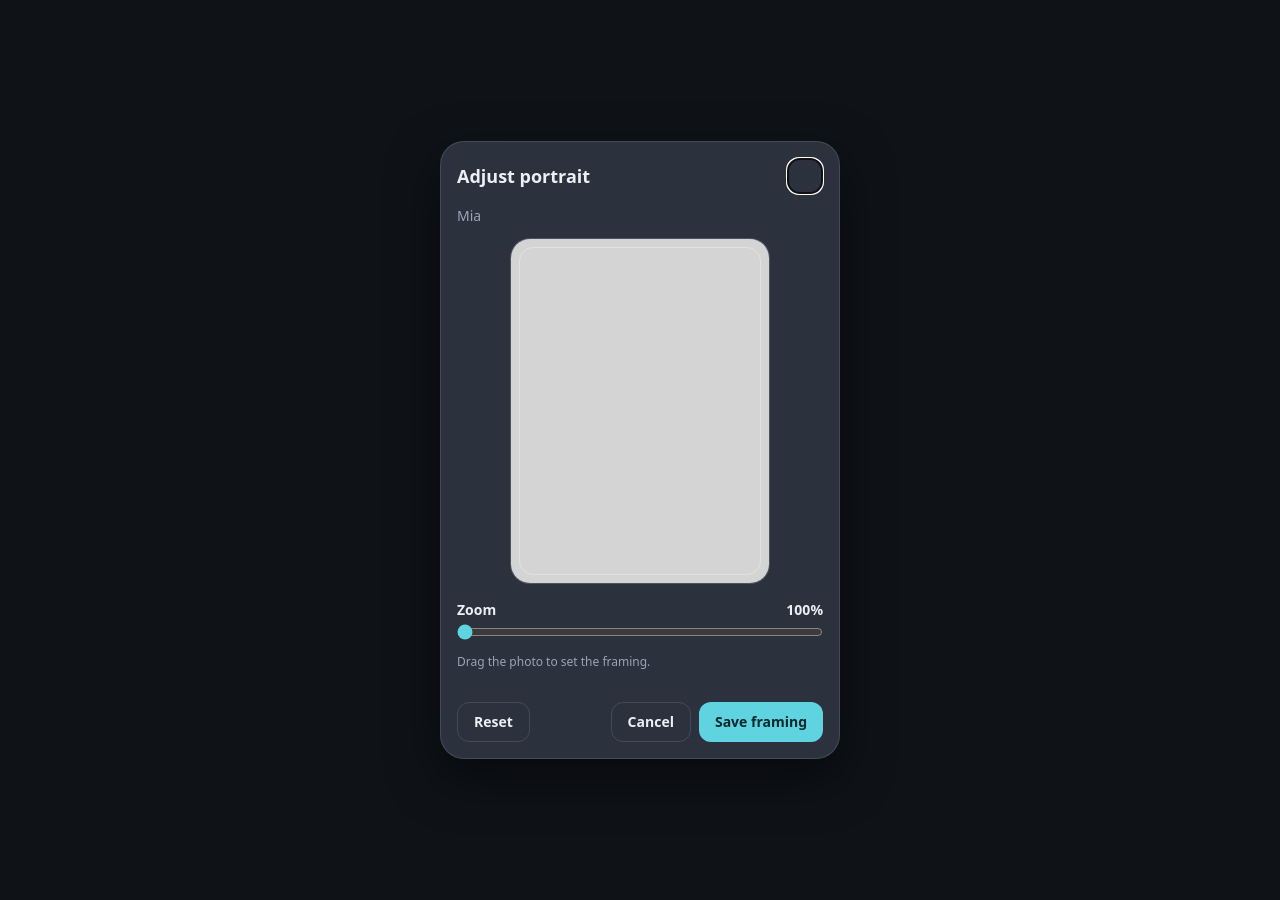
Test: PortraitAdjust › says so when the browser will not store it, and stays open
Click the button "Save framing" at (761, 722), box [699,702,823,742]
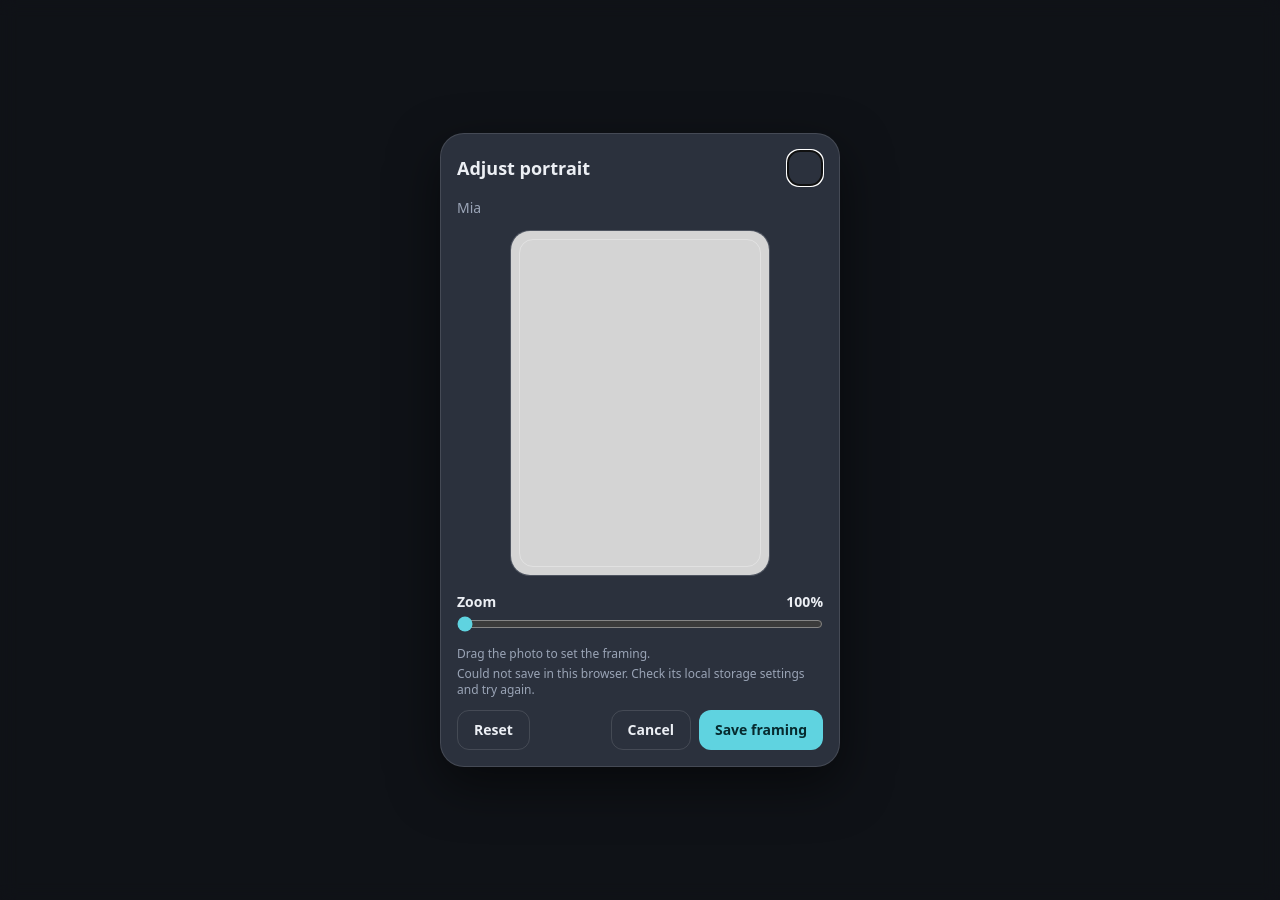
Expected: the text "Could not save in this browser" is shown, [457,665,804,698]
